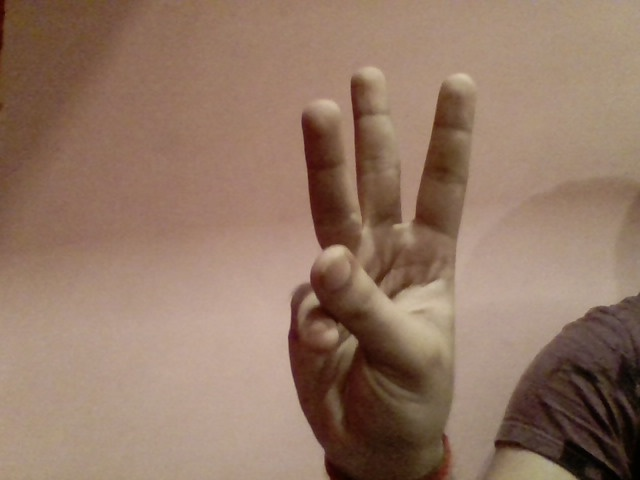w: (267, 60, 477, 462)
